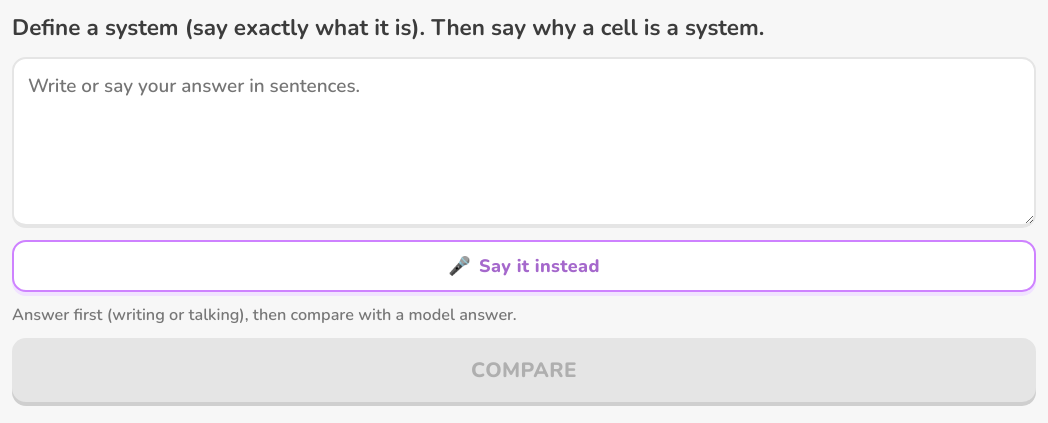
Test: talking instead of typing › "Say it instead" puts her words into the answer box
What coordinates should you click on to do the following:
click the button "🎤 Say it instead"
I would click on:
 (524, 266)
Its box is x1=12 y1=240 x2=1036 y2=292.
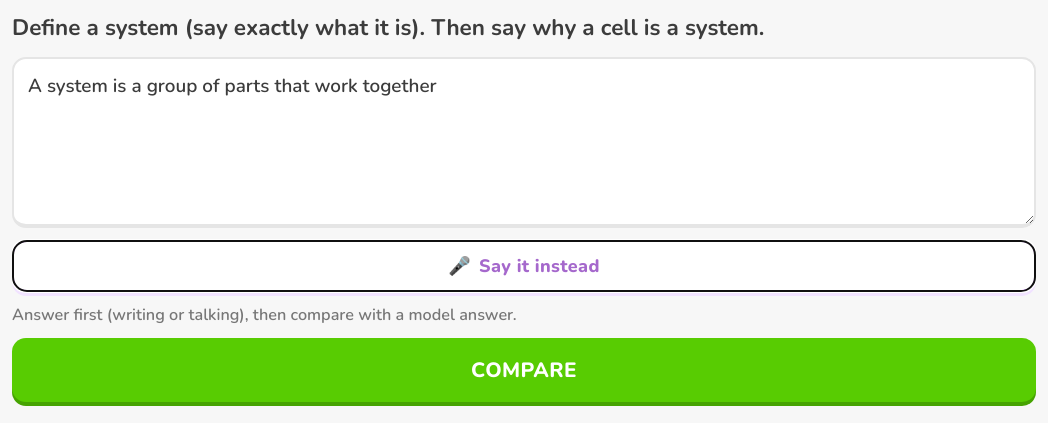
Expected: the text box named "your answer" holds "A system is a group of parts that work together", x1=12 y1=57 x2=1036 y2=228
Expected: the button "Compare" is enabled, x1=12 y1=338 x2=1036 y2=402
